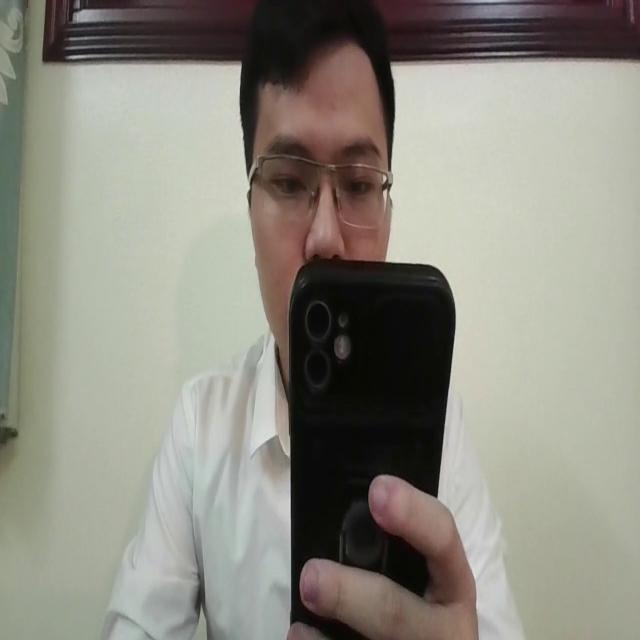phone: (284, 246, 458, 640)
student: (91, 0, 525, 640)
